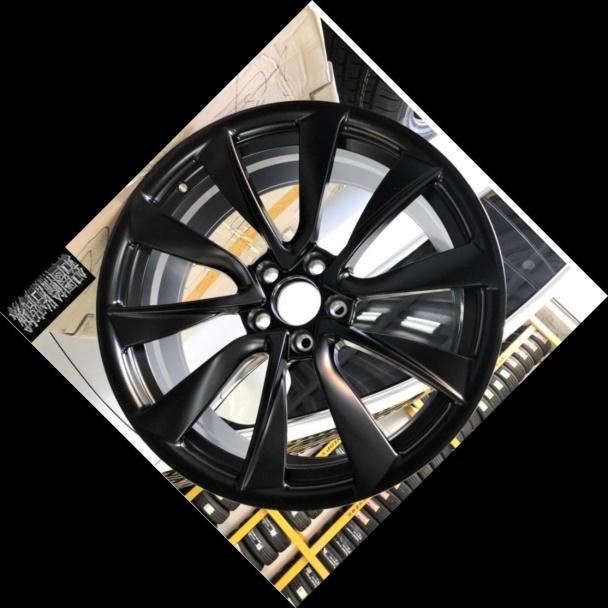hole: (296, 247, 331, 282), (242, 304, 277, 338), (319, 291, 352, 323), (286, 325, 318, 357), (252, 258, 283, 289)
